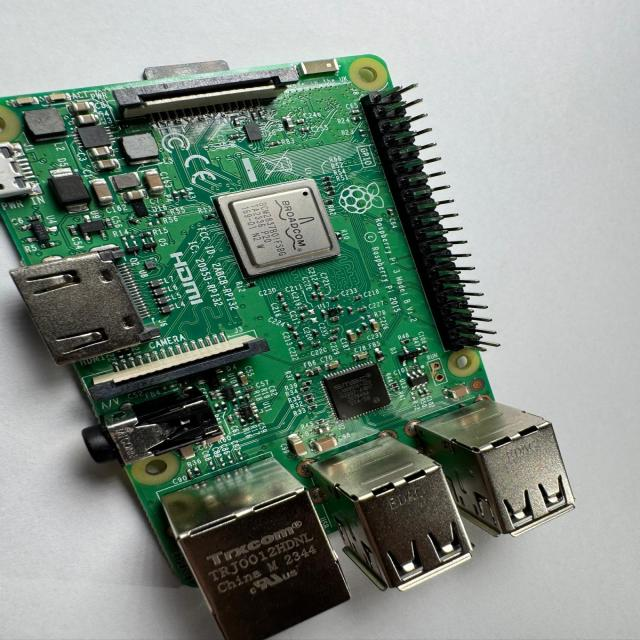CPU: (214, 179, 343, 283)
Ethernet: (162, 489, 350, 640)
GPIO: (357, 86, 501, 352)
HDMI: (8, 248, 156, 366)
RAM-3: (317, 360, 391, 423)
Raspberry: (0, 55, 575, 640)
